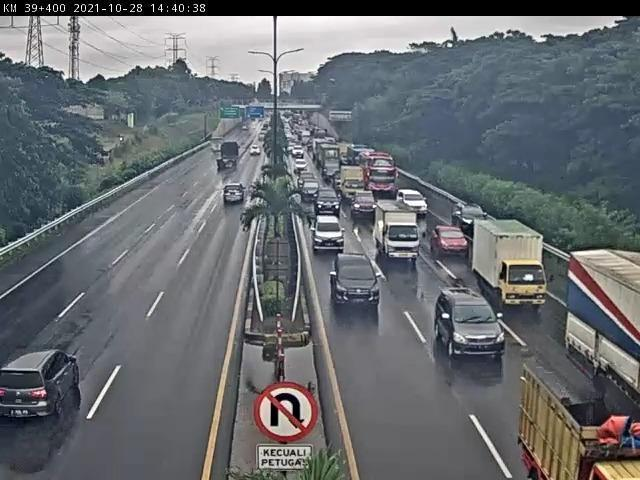car: (2, 348, 81, 419), (435, 288, 509, 359), (333, 253, 382, 303), (311, 211, 344, 249), (434, 223, 469, 253), (452, 202, 487, 229), (396, 187, 426, 217), (350, 190, 377, 217), (314, 189, 340, 214), (222, 182, 249, 205)
truck: (474, 220, 550, 311), (375, 200, 419, 259)
